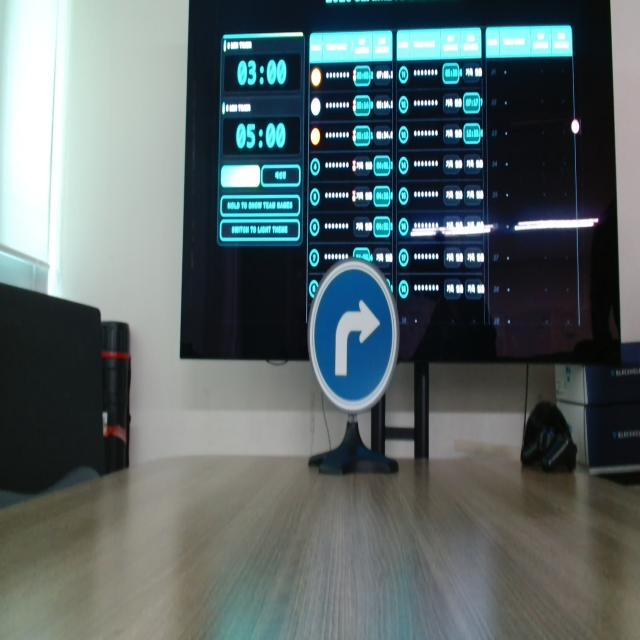right_dierection: (305, 252, 412, 442)
